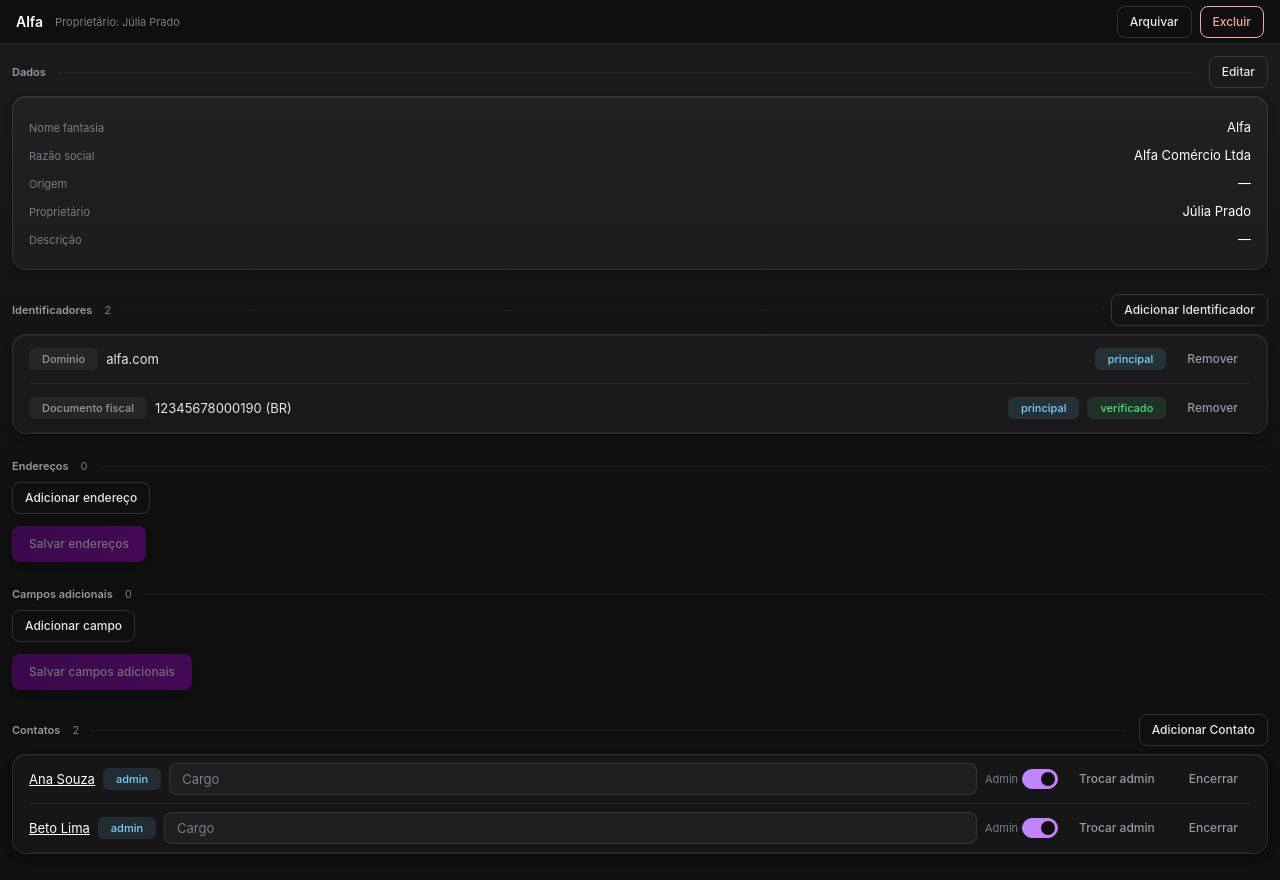
Scenario: FichaDeEmpresa — vínculos e admin (D-08) › (b) o ULTIMO_ADMIN da api (a tela estava velha) mostra a frase e também oferece Trocar admin
Click the button "Encerrar" in the row of "Ana Souza". click: (1213, 779)
box: x1=1176 y1=763 x2=1251 y2=795
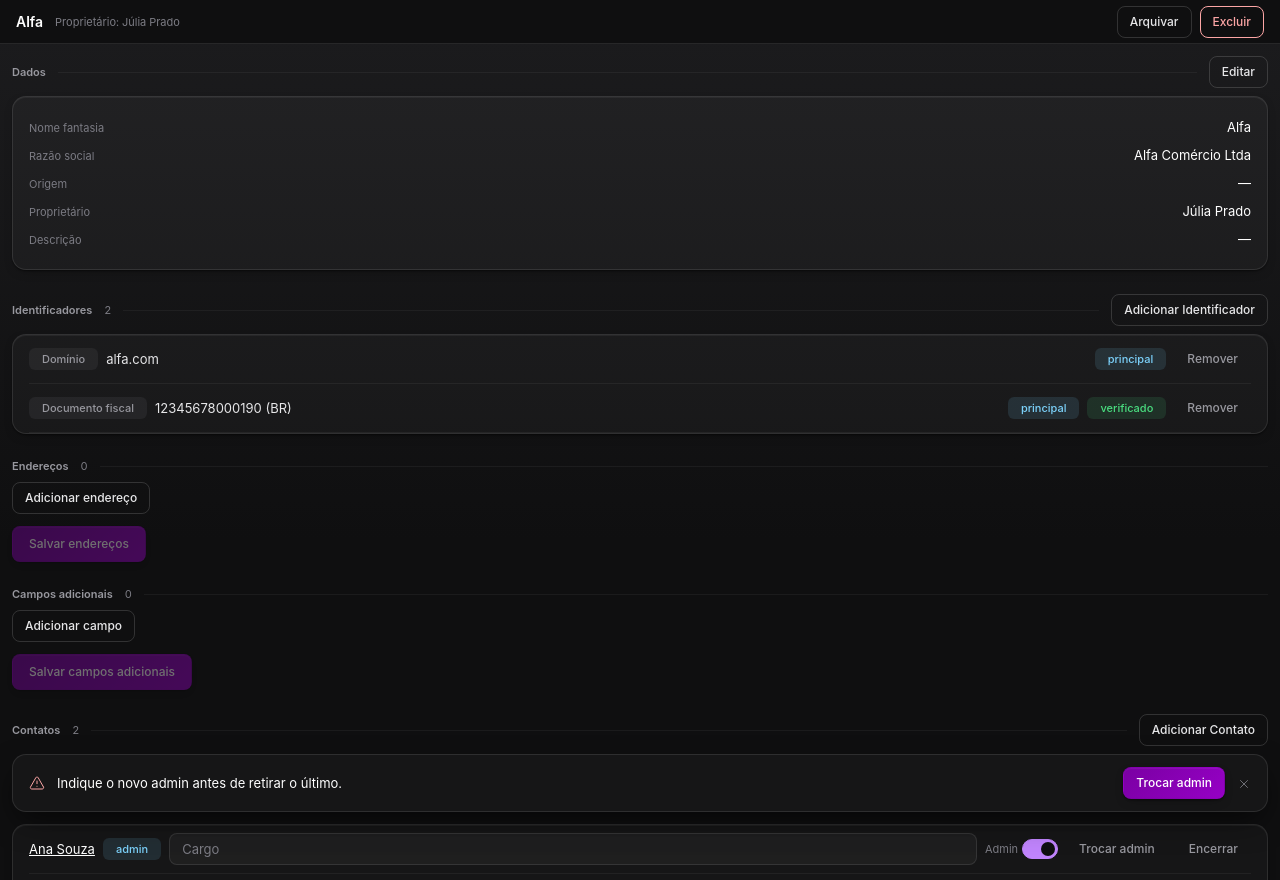
Expected: the text "Indique o novo admin antes de retirar o último." is shown, x1=57 y1=775 x2=342 y2=791
